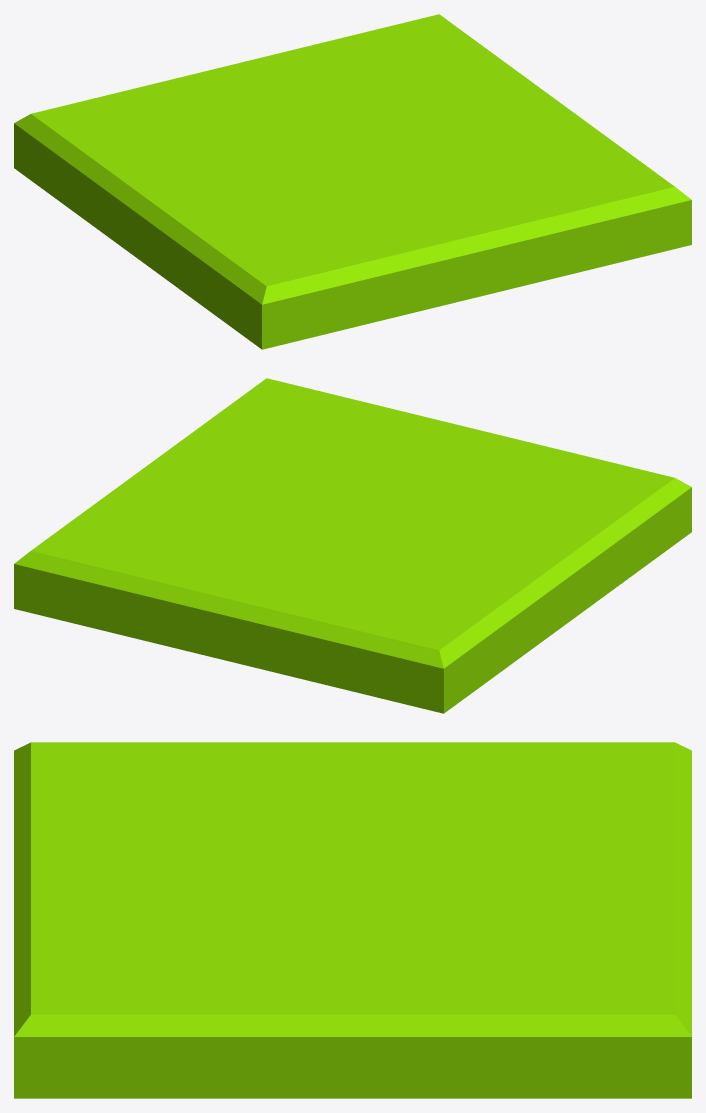
The model's file is movingPlatform.glb.
The picture shows the model from 3 angles, top to bottom: view 1: azimuth 30°, elevation 25°; view 2: azimuth 150°, elevation 25°; view 3: azimuth 270°, elevation 25°; orthographic projection. The views are drawn at different scales.
Visible parts, largest first — view 1: movingPlatform; view 2: movingPlatform; view 3: movingPlatform.
Boxes of the visible parts, <box> form: movingPlatform: <box>14,14,691,349</box>; movingPlatform: <box>14,378,691,713</box>; movingPlatform: <box>14,742,691,1098</box>.
Size of the model in its own units: 4 by 0.5 by 4.
